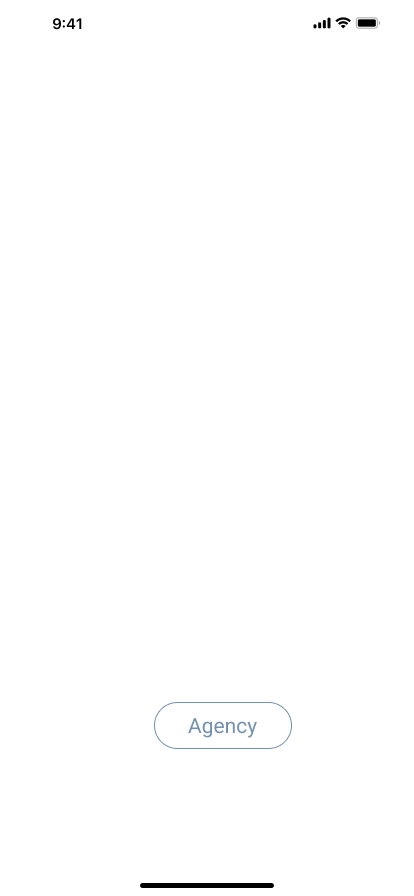Buttons: (154, 702, 300, 749)
Home Indicator: (0, 862, 414, 896)
Status Bar: (0, 0, 414, 44)
